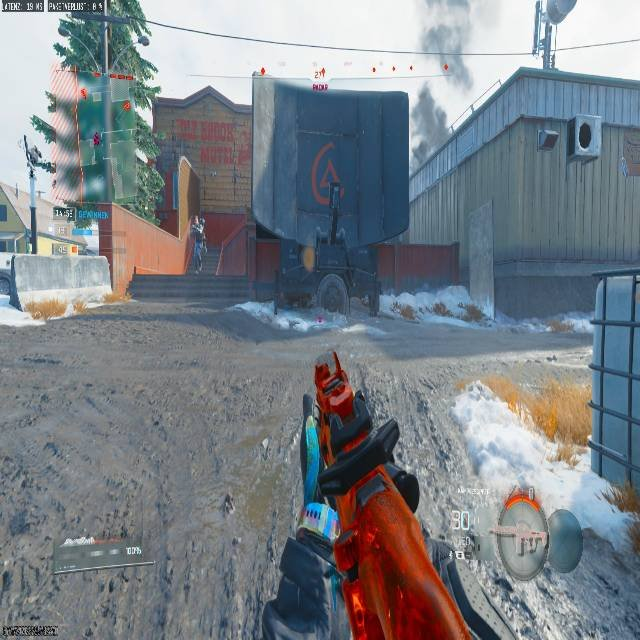head: (312, 352, 350, 406)
player: (188, 220, 210, 274)
